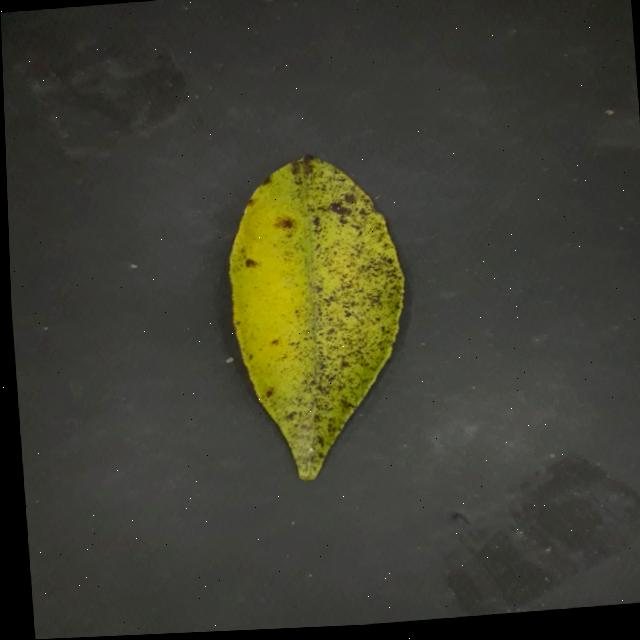greasy_spot: (229, 154, 403, 479)
